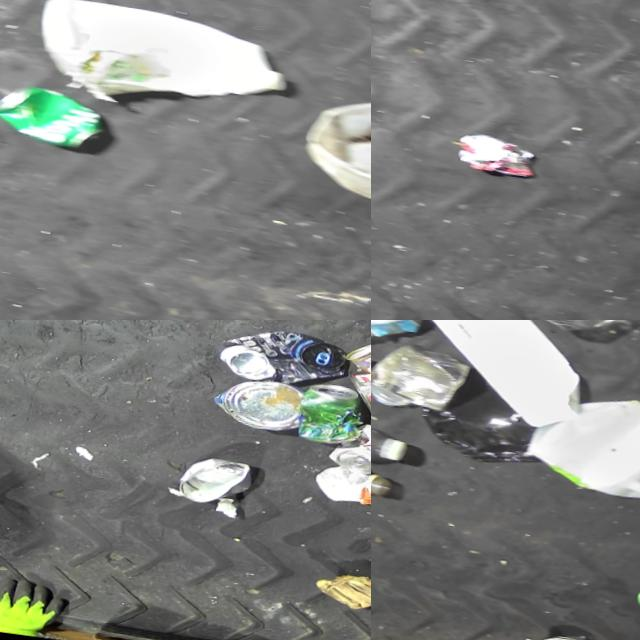can: (210, 323, 345, 395), (371, 334, 476, 424), (0, 80, 107, 154), (204, 374, 301, 437), (288, 379, 364, 447), (165, 452, 249, 511), (447, 131, 538, 181), (319, 417, 371, 481), (340, 349, 371, 432), (338, 334, 371, 379)
milk_jug: (26, 0, 294, 121), (507, 387, 640, 521)
plastic_bottle: (371, 320, 451, 360), (371, 402, 419, 462)
